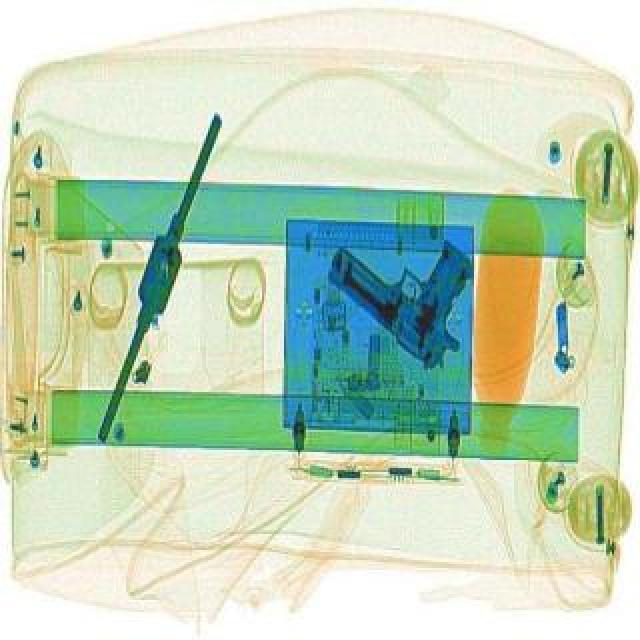gun: (308, 192, 512, 372)
